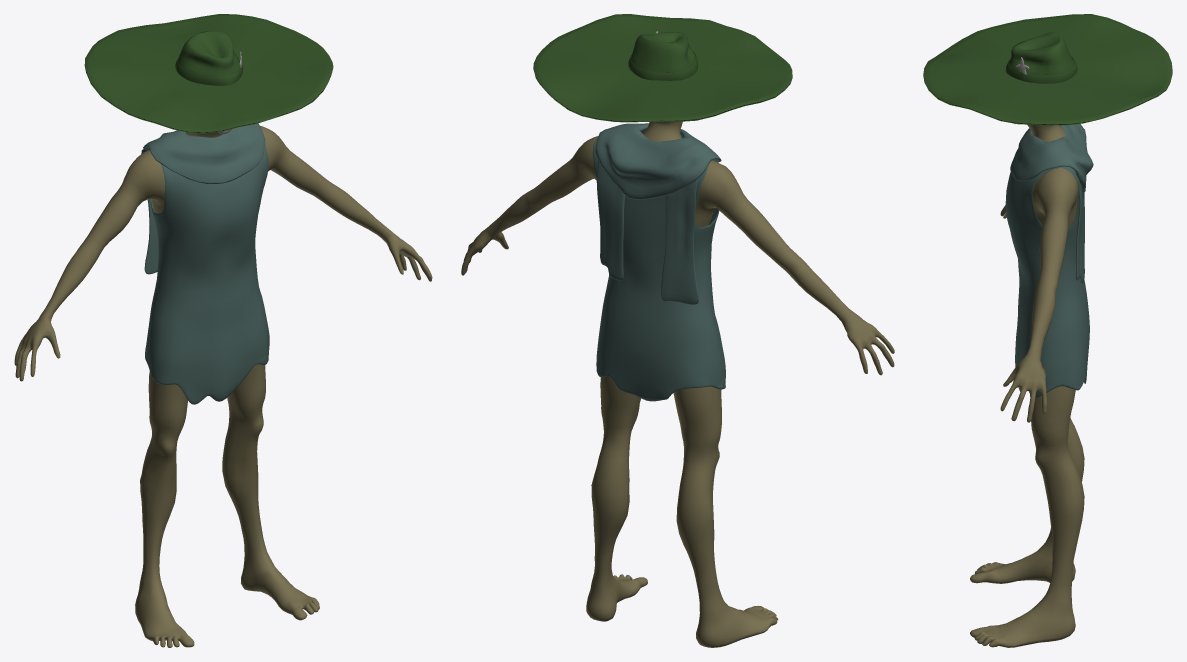
Rendered from M_Ranged.fbx.
3 views of the same model, side by side, from view 1: azimuth 30°, elevation 25°; view 2: azimuth 150°, elevation 25°; view 3: azimuth 270°, elevation 25° (orthographic). The views are drawn at different scales.
Parts seen in each view (by area): view 1: Body_low, Tunic_low, Brim_low, Scarf_low, Hat_low, Band_low, Tails_low; view 2: Body_low, Brim_low, Tunic_low, Scarf_low, Tails_low, Hat_low, Band_low; view 3: Body_low, Brim_low, Tunic_low, Scarf_low, Hat_low, Tails_low, Band_low.
Boxes of the visible parts, box(x1,y1,x2,y2) form: Body_low: box(14, 126, 432, 647); Tunic_low: box(141, 147, 269, 404); Brim_low: box(84, 14, 333, 133); Scarf_low: box(143, 123, 265, 183); Hat_low: box(178, 31, 240, 76); Band_low: box(175, 54, 243, 85); Tails_low: box(144, 199, 158, 274); Body_low: box(461, 121, 894, 647); Brim_low: box(533, 14, 792, 122); Tunic_low: box(592, 137, 725, 401); Scarf_low: box(595, 123, 721, 199); Tails_low: box(596, 161, 699, 304); Hat_low: box(630, 32, 695, 72); Band_low: box(628, 50, 697, 80); Body_low: box(970, 123, 1084, 647); Brim_low: box(923, 14, 1172, 125); Tunic_low: box(1005, 166, 1089, 397); Scarf_low: box(1010, 124, 1093, 193); Hat_low: box(1009, 32, 1074, 74); Tails_low: box(1076, 178, 1084, 283); Band_low: box(1005, 55, 1077, 83).
Size of the model in its own units: 98.64 by 130 by 51.66.
